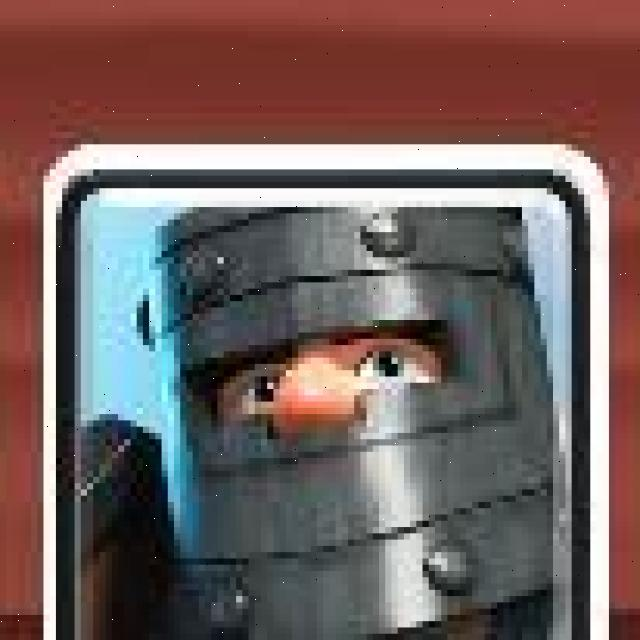Dark_Prince: (36, 142, 610, 640)
